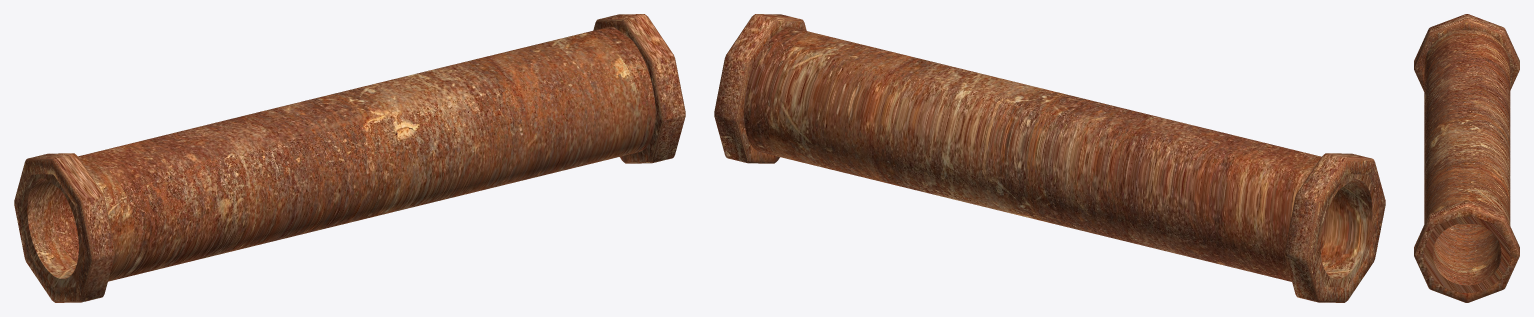
The model's file is 錆びたパイプ.fbx.
The picture shows the model from 3 angles, left to right: view 1: azimuth 30°, elevation 25°; view 2: azimuth 150°, elevation 25°; view 3: azimuth 270°, elevation 25°; orthographic projection. The views are drawn at different scales.
Visible parts, largest first — view 1: obj14, obj16, obj15; view 2: obj14, obj16, obj15; view 3: obj14, obj15, obj16.
Boxes of the visible parts, x1,y1,x2,y2 form: obj14: (22,27,655,287); obj16: (14,153,115,302); obj15: (593,14,685,163); obj14: (744,27,1377,287); obj16: (1284,153,1385,302); obj15: (714,14,806,163); obj14: (1424,30,1510,293); obj15: (1414,200,1519,302); obj16: (1414,14,1519,91).
Size of the model in its own units: 1353 by 312 by 312.
Materials: 1 (1 with a texture image).
